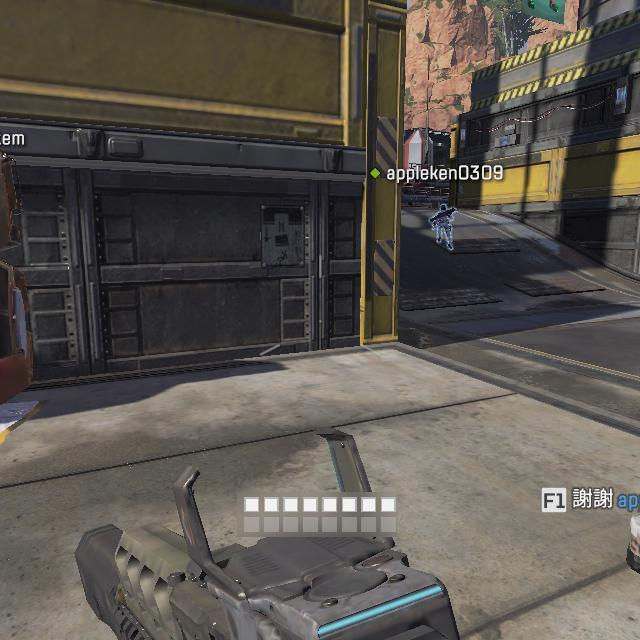avatar: (432, 202, 455, 252)
